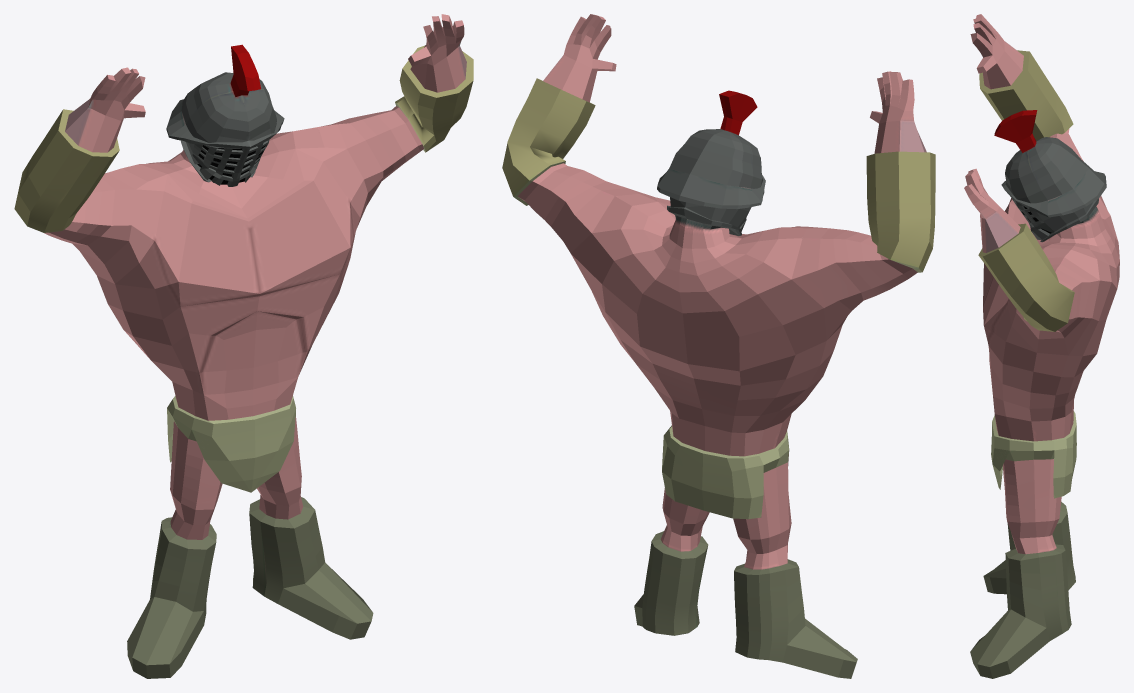
The model's file is GladiatorCelebracion_000578.obj.
3 renders of one model, left to right at view 1: azimuth 30°, elevation 25°; view 2: azimuth 150°, elevation 25°; view 3: azimuth 270°, elevation 25°, orthographic. The views are drawn at different scales.
Visible parts, largest first — view 1: Gadiador_Gladiador_H; view 2: Gadiador_Gladiador_H; view 3: Gadiador_Gladiador_H.
Part boxes in pixels (bbox=[...]): Gadiador_Gladiador_H: bbox=[14, 14, 473, 678]; Gadiador_Gladiador_H: bbox=[502, 14, 935, 678]; Gadiador_Gladiador_H: bbox=[964, 14, 1119, 678].
Size of the model in its own units: 5.89 by 8.02 by 2.05.
1 material, 1 textured.
